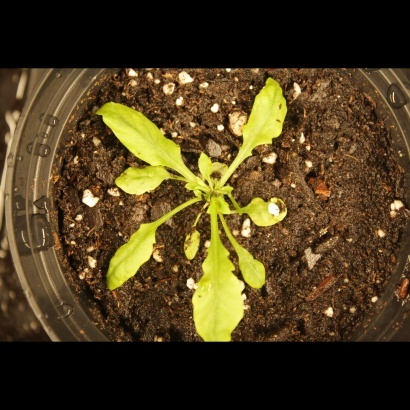leaf: (190, 219, 249, 346), (92, 101, 189, 168), (237, 67, 295, 165), (99, 214, 165, 299), (224, 232, 275, 289), (243, 193, 299, 233), (114, 164, 175, 197), (177, 223, 208, 262), (193, 147, 224, 185)
